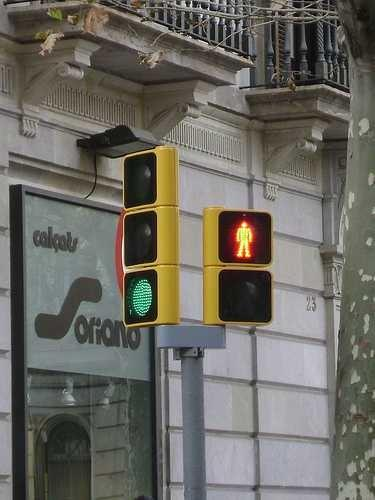green: (121, 150, 166, 327), (121, 269, 162, 324)
